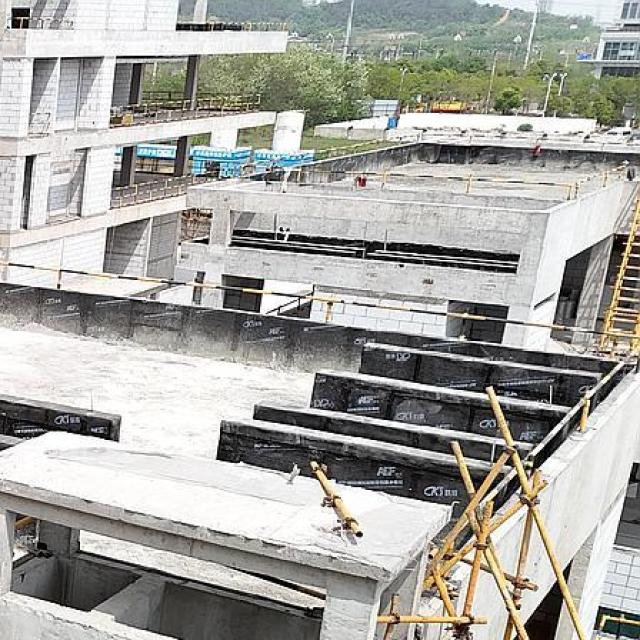Guardrail: (0, 261, 640, 340), (477, 344, 640, 510), (258, 164, 573, 202), (288, 132, 640, 159), (112, 162, 257, 202), (110, 90, 261, 120), (574, 164, 627, 199), (12, 16, 62, 28), (136, 156, 175, 170), (142, 90, 188, 100), (242, 22, 287, 31), (29, 112, 51, 125)
